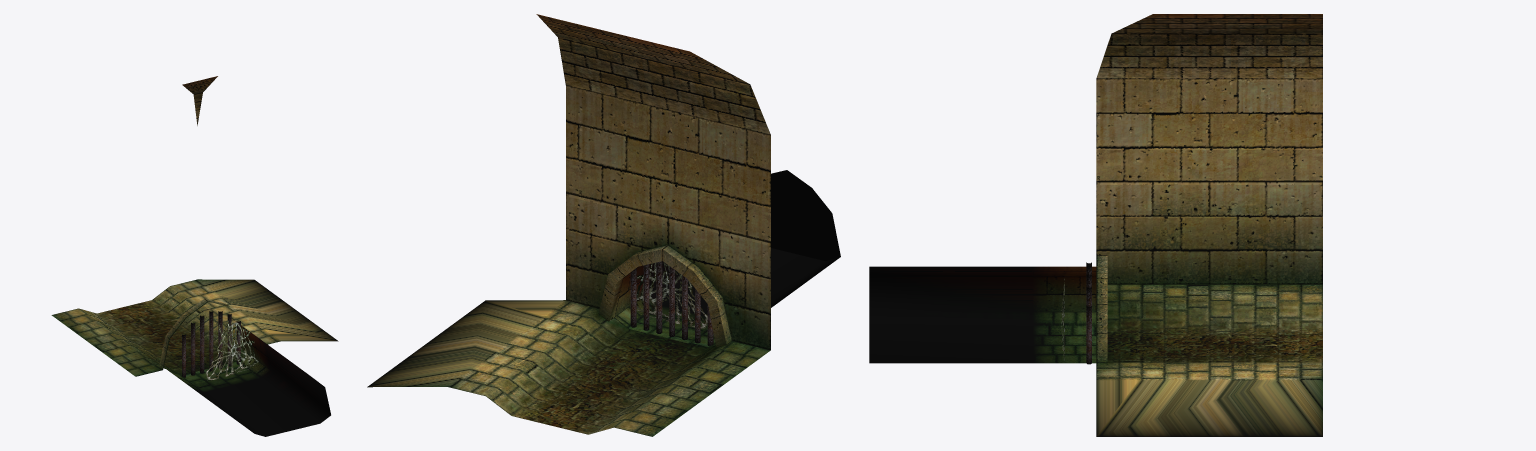
The model's file is Mission12_Sewer02PT2.glb.
3 renders of one model, left to right at view 1: azimuth 30°, elevation 25°; view 2: azimuth 150°, elevation 25°; view 3: azimuth 270°, elevation 25°, orthographic. The views are drawn at different scales.
Visible parts, largest first — view 1: MISSION12_SEWER02PT2; view 2: MISSION12_SEWER02PT2; view 3: MISSION12_SEWER02PT2.
Boxes of the visible parts, x1=… form: MISSION12_SEWER02PT2: x1=51, y1=76, x2=338, y2=436; MISSION12_SEWER02PT2: x1=367, y1=14, x2=840, y2=436; MISSION12_SEWER02PT2: x1=869, y1=14, x2=1322, y2=436.
Bounding box in the file's own units: 5.56 × 6.37 × 11.5.
6 materials, 6 textured.
